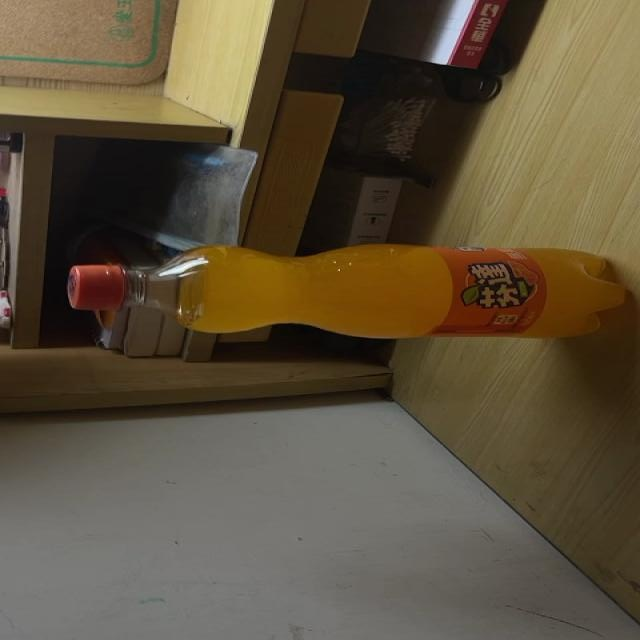Fanta: (66, 245, 631, 339)
